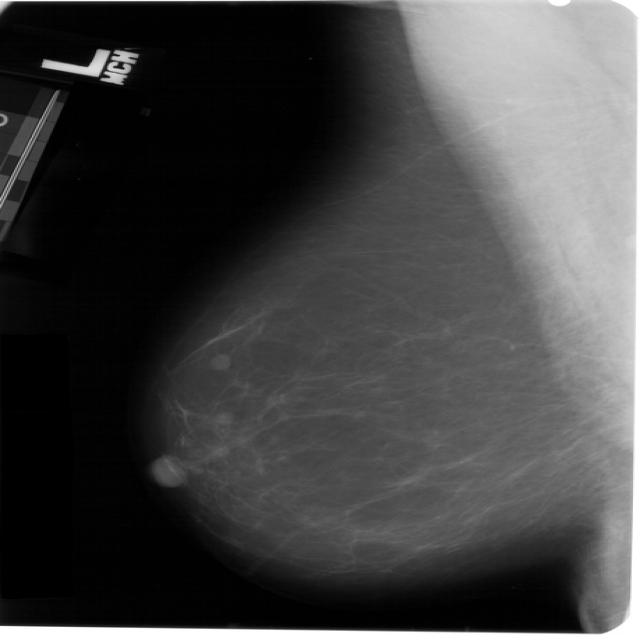tumour: (208, 352, 230, 368)
